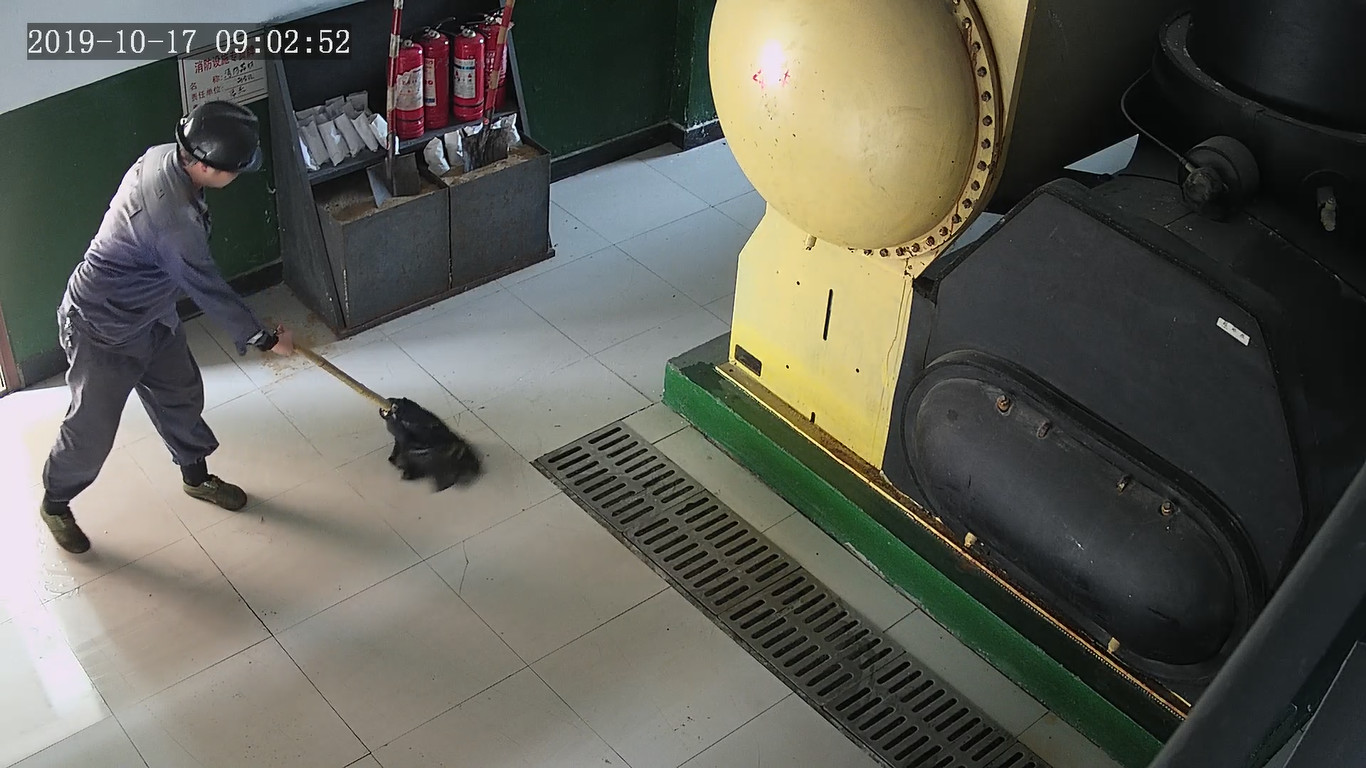helmet: (175, 98, 262, 174)
